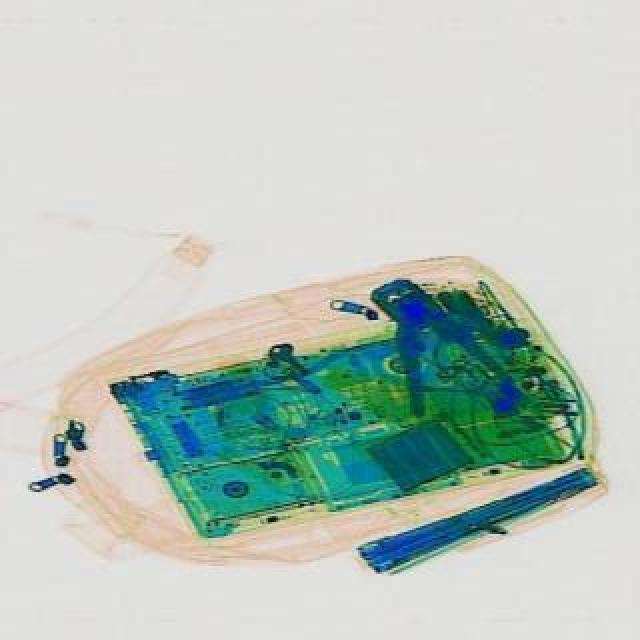wrench: (336, 258, 514, 434)
